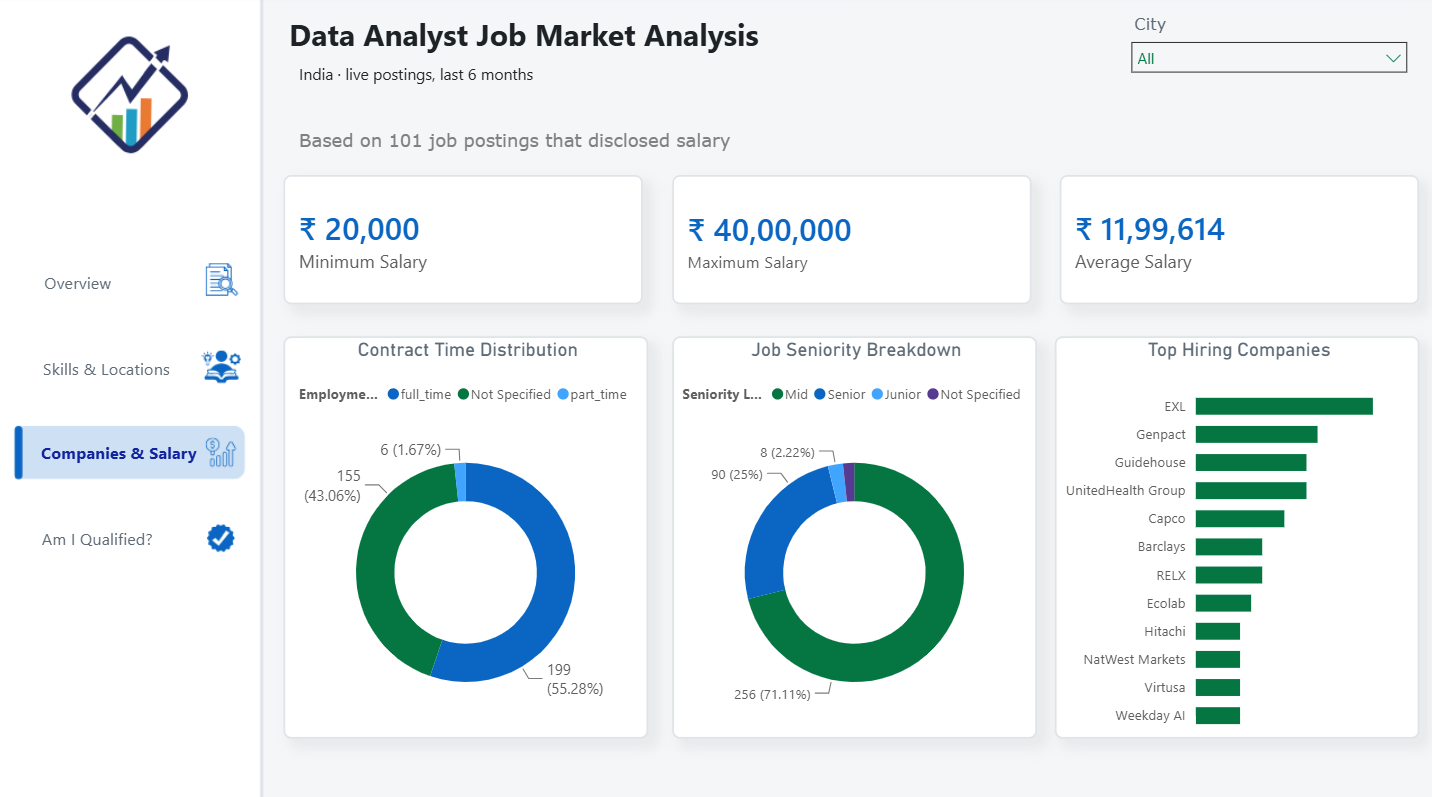

What the dashboard file says about the page in this screenshot:
{"tool":"powerbi","page":{"name":"Companies & Salary","canvas":[1280,720],"ordinal":2},"visuals":[{"type":"clusteredBarChart","title":"Top Hiring Companies","fields":{"Category":["job_data.company"],"Y":["_Measures.Job Count"]},"box":[942.3,304.3,325.2,358.3],"z":0},{"type":"donutChart","title":"Job Seniority Breakdown","fields":{"Y":["_Measures.Job Count"],"Category":["job_data.seniority_level_v2"]},"box":[602.5,304.3,325.2,358.3],"z":1000},{"type":"donutChart","title":"Contract Time Distribution","fields":{"Y":["_Measures.Job Count"],"Category":["job_data.contract_time"]},"box":[256.4,304.3,325.2,358.3],"z":2000},{"type":"cardVisual","fields":{"Data":["_Measures.Min Salary"]},"box":[256.4,160.7,320,115],"z":3000},{"type":"cardVisual","fields":{"Data":["_Measures.Max Salary"]},"box":[602.5,160.7,320,115],"z":4000},{"type":"cardVisual","fields":{"Data":["_Measures.Avg Salary"]},"box":[947.2,160.7,320,115],"z":5000},{"type":"actionButton","box":[36,237.2,74.4,38.4],"z":6000},{"type":"actionButton","box":[36,314,125.6,37.2],"z":7000},{"type":"actionButton","box":[36,388.4,147.7,37.2],"z":8000},{"type":"actionButton","box":[36,460.5,109.3,45.3],"z":9000},{"type":"textbox","box":[256.4,12.3,510.4,57.7],"z":10000},{"type":"textbox","box":[265,55.2,235.6,31.9],"z":11000},{"type":"slicer","fields":{"Values":["job_data.location"]},"box":[1001.2,12.3,266.3,72.4],"z":12000},{"type":"textbox","box":[265,114.1,428.2,35.6],"z":13000}]}

Visuals, with their boxes on the page's 1280x720 design canvas (x1, y1, x2, y2). These are canvas units, not pixel positions in the 1432x797 screenshot, which may show the page scaled, cropped or inside an application window:
"Top Hiring Companies" clusteredBarChart: x1=942 y1=304 x2=1268 y2=663
"Job Seniority Breakdown" donutChart: x1=602 y1=304 x2=928 y2=663
"Contract Time Distribution" donutChart: x1=256 y1=304 x2=582 y2=663
cardVisual - _Measures.Min Salary: x1=256 y1=161 x2=576 y2=276
cardVisual - _Measures.Max Salary: x1=602 y1=161 x2=922 y2=276
cardVisual - _Measures.Avg Salary: x1=947 y1=161 x2=1267 y2=276
actionButton: x1=36 y1=237 x2=110 y2=276
actionButton: x1=36 y1=314 x2=162 y2=351
actionButton: x1=36 y1=388 x2=184 y2=426
actionButton: x1=36 y1=460 x2=145 y2=506
textbox: x1=256 y1=12 x2=767 y2=70
textbox: x1=265 y1=55 x2=501 y2=87
slicer - job_data.location: x1=1001 y1=12 x2=1268 y2=85
textbox: x1=265 y1=114 x2=693 y2=150
